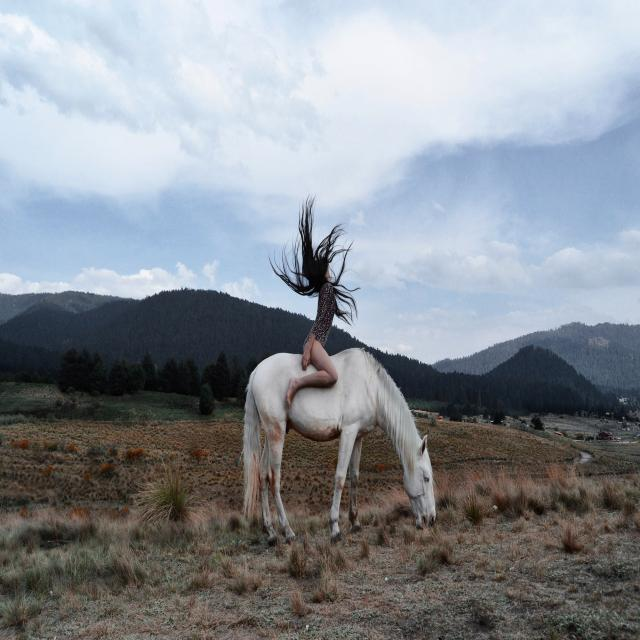adult: (286, 252, 340, 405)
